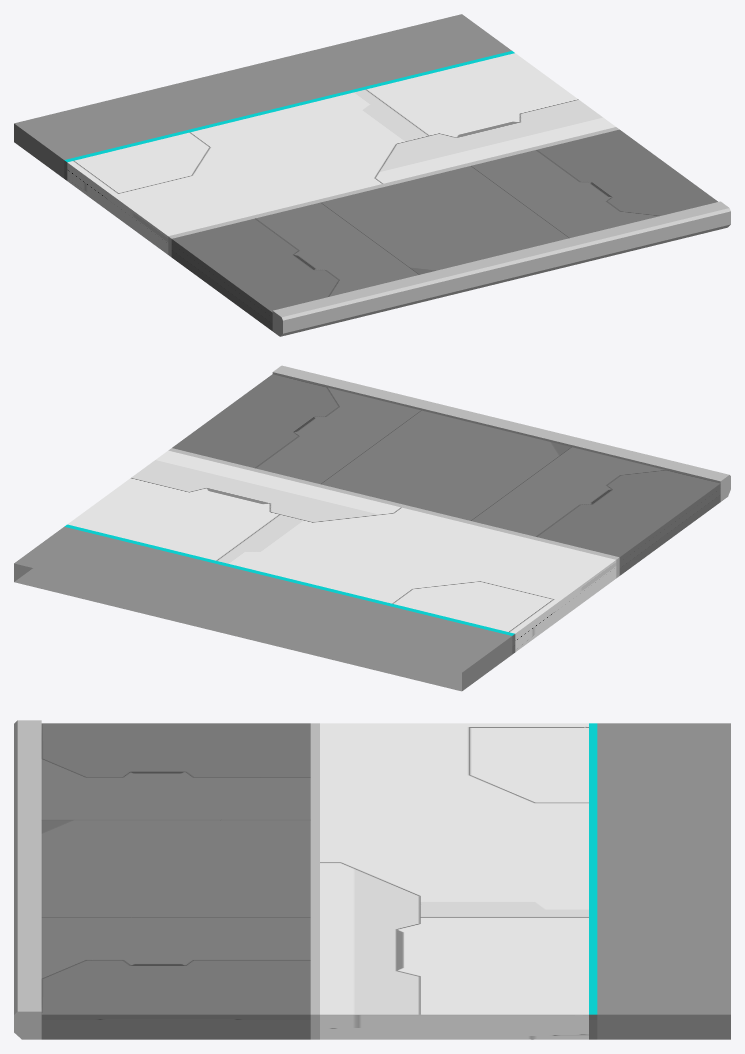
The model's file is SM_Platform_Interior_5x5_1.fbx.
The picture shows the model from 3 angles, top to bottom: view 1: azimuth 30°, elevation 25°; view 2: azimuth 150°, elevation 25°; view 3: azimuth 270°, elevation 25°; orthographic projection. The views are drawn at different scales.
Parts seen in each view (by area): view 1: SM_Platform_Interior_5x5_1; view 2: SM_Platform_Interior_5x5_1; view 3: SM_Platform_Interior_5x5_1.
Part boxes in pixels (x1,y1,x2,y2): SM_Platform_Interior_5x5_1: (14,14,730,336); SM_Platform_Interior_5x5_1: (14,365,730,691); SM_Platform_Interior_5x5_1: (14,720,730,1039).
Size of the model in its own units: 500 by 22.17 by 520.
